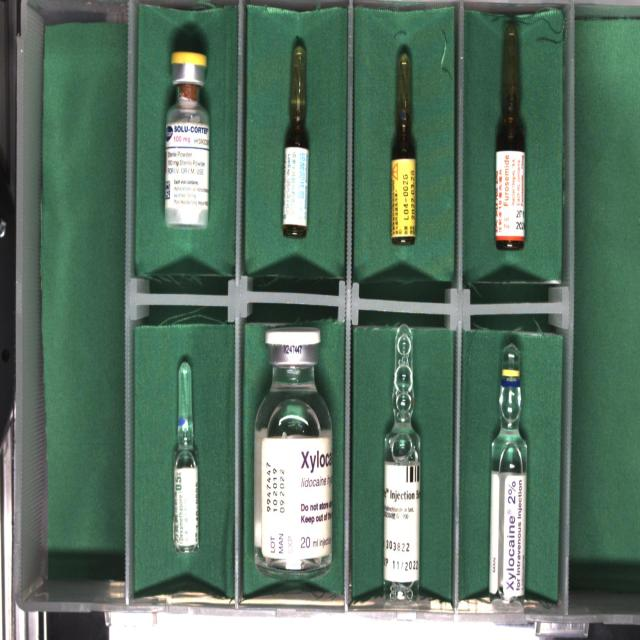Vials: (254, 325, 332, 579), (165, 52, 209, 228)
